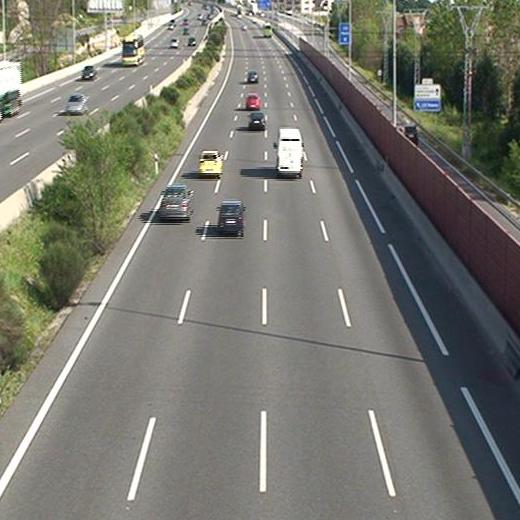car: (161, 187, 190, 216), (218, 202, 242, 230), (198, 152, 222, 174), (248, 113, 265, 130), (245, 94, 260, 108), (247, 71, 258, 82)
van: (275, 129, 303, 174)
